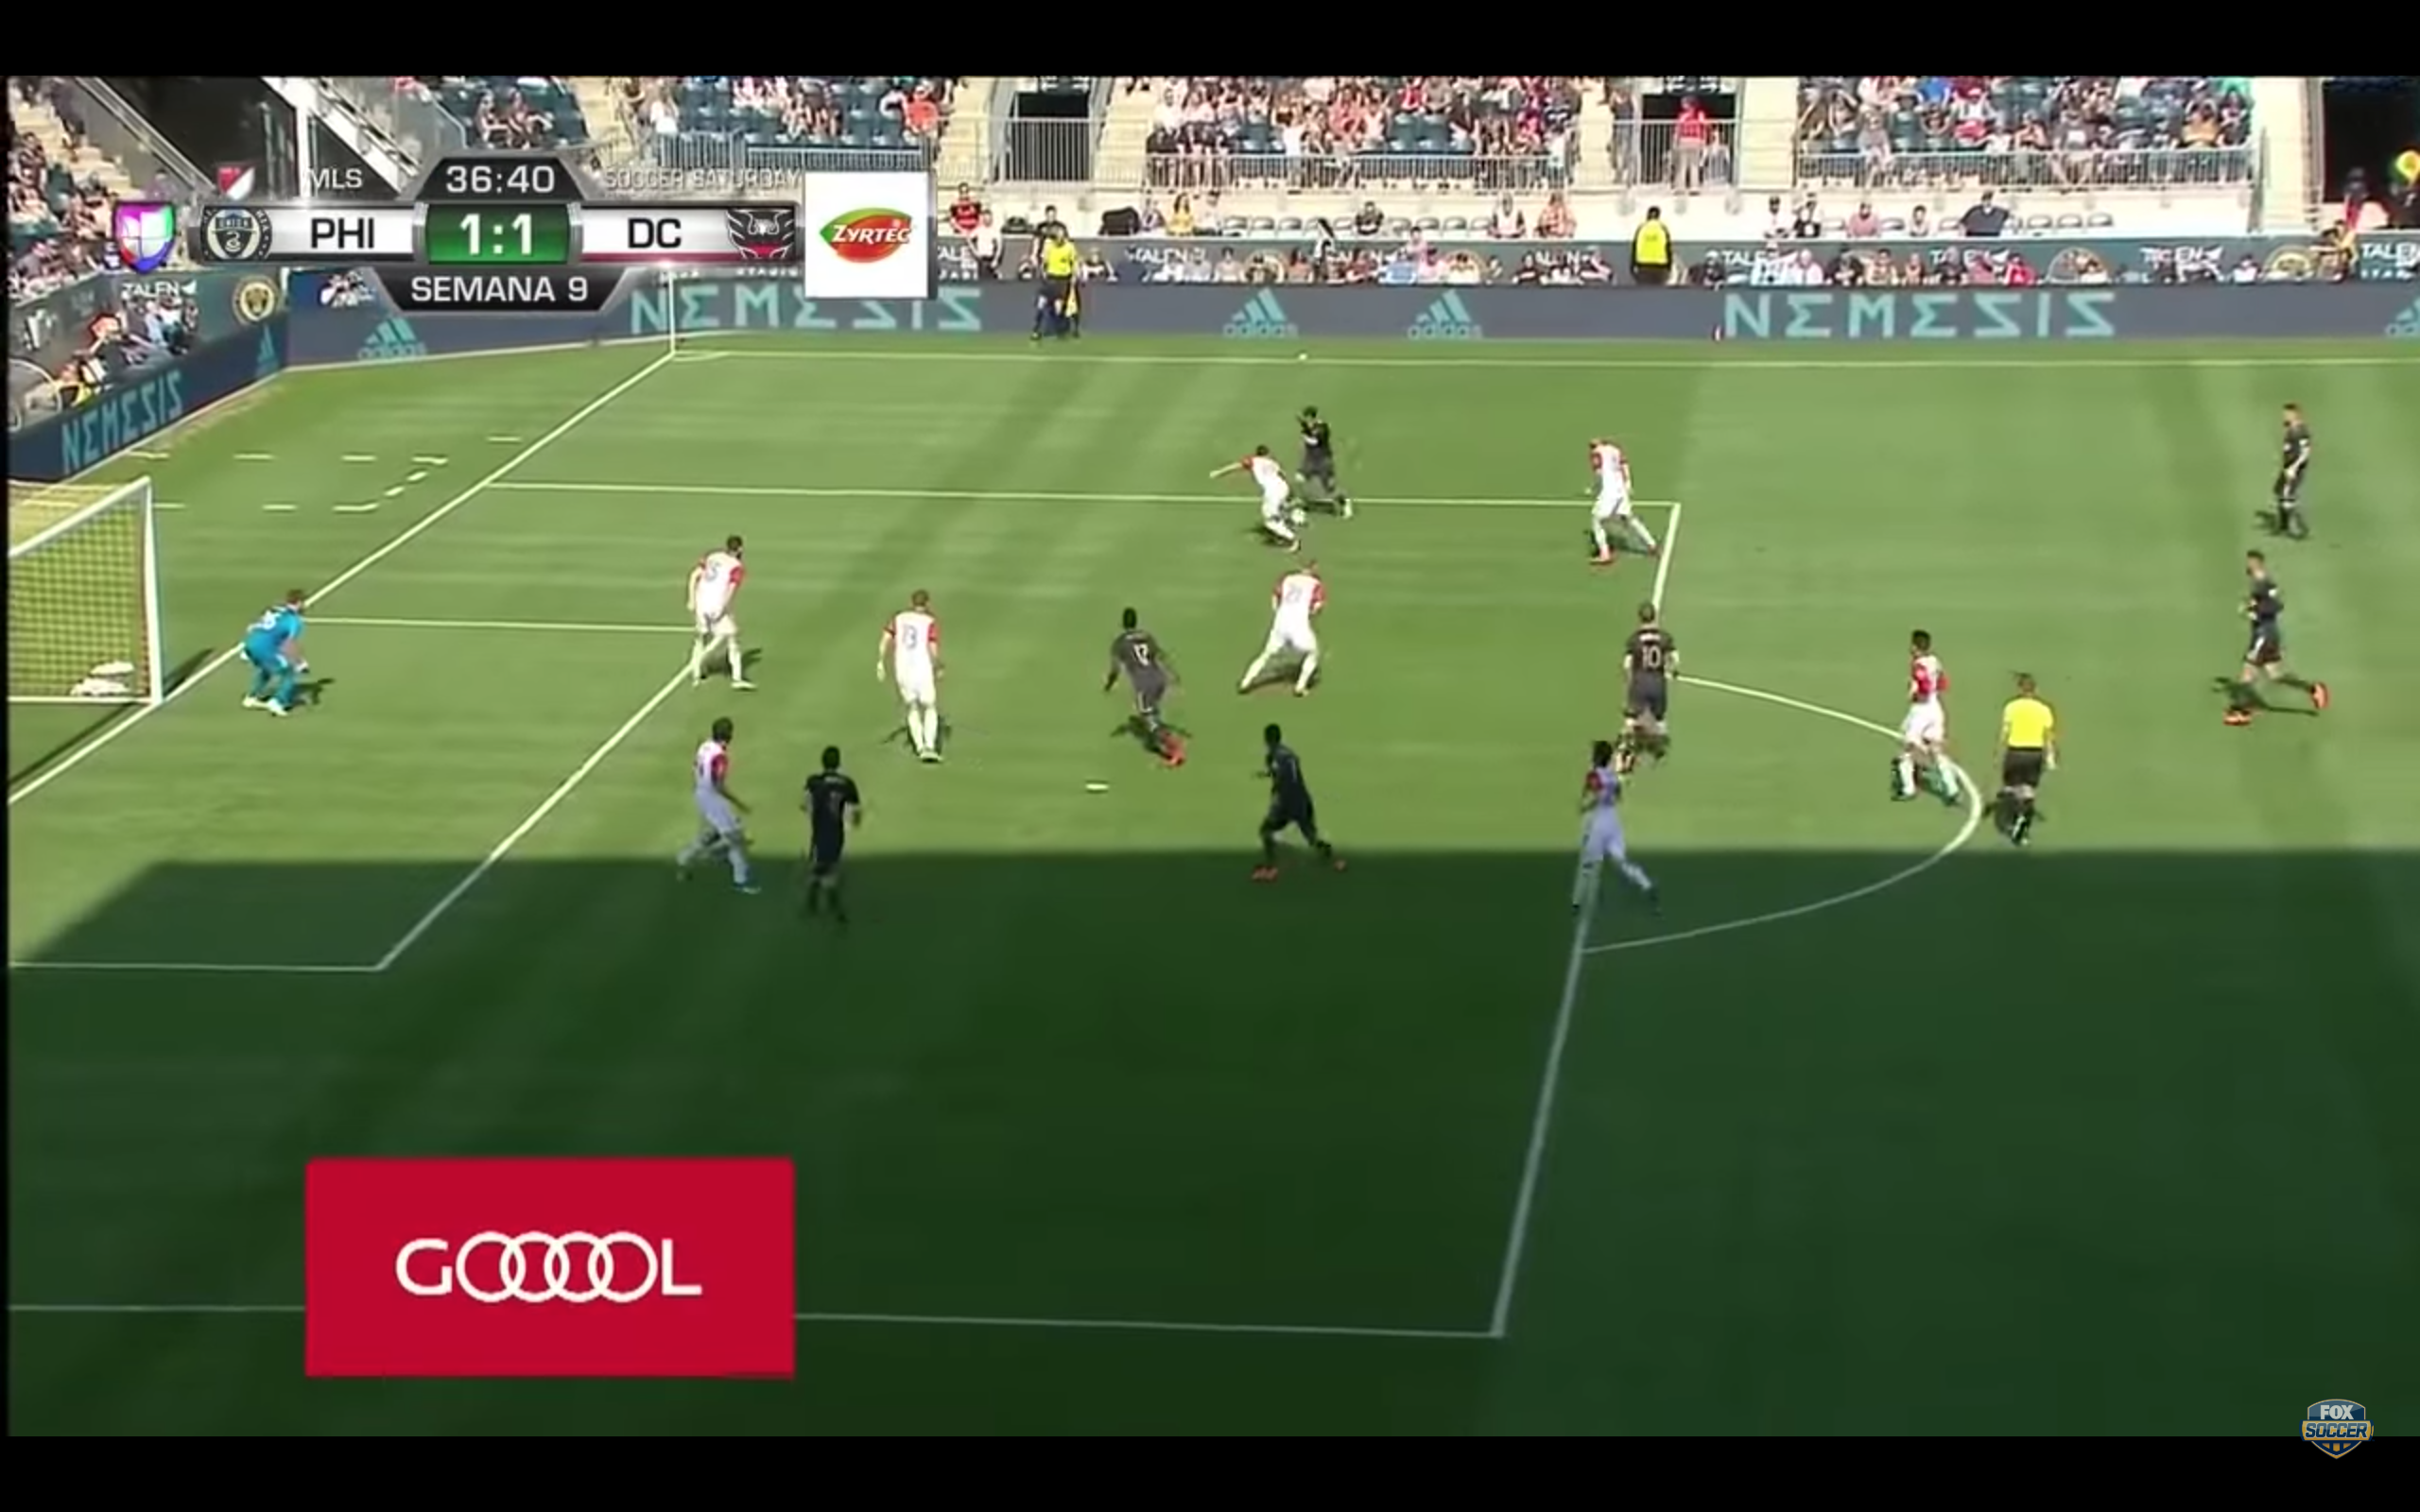referee: (1981, 670, 2063, 845), (1028, 228, 1080, 342)
soccer ball: (1287, 506, 1311, 528)
soccer player: (2192, 550, 2340, 731), (1533, 737, 1672, 926), (1856, 619, 1974, 812), (1232, 711, 1357, 888), (1088, 610, 1203, 772), (867, 583, 965, 772), (675, 719, 772, 904), (667, 531, 773, 696), (1235, 556, 1333, 700), (1562, 443, 1672, 566), (791, 731, 862, 919), (1588, 603, 1693, 730), (227, 585, 323, 721), (1196, 439, 1303, 553), (2246, 398, 2310, 529), (1290, 411, 1347, 522)
